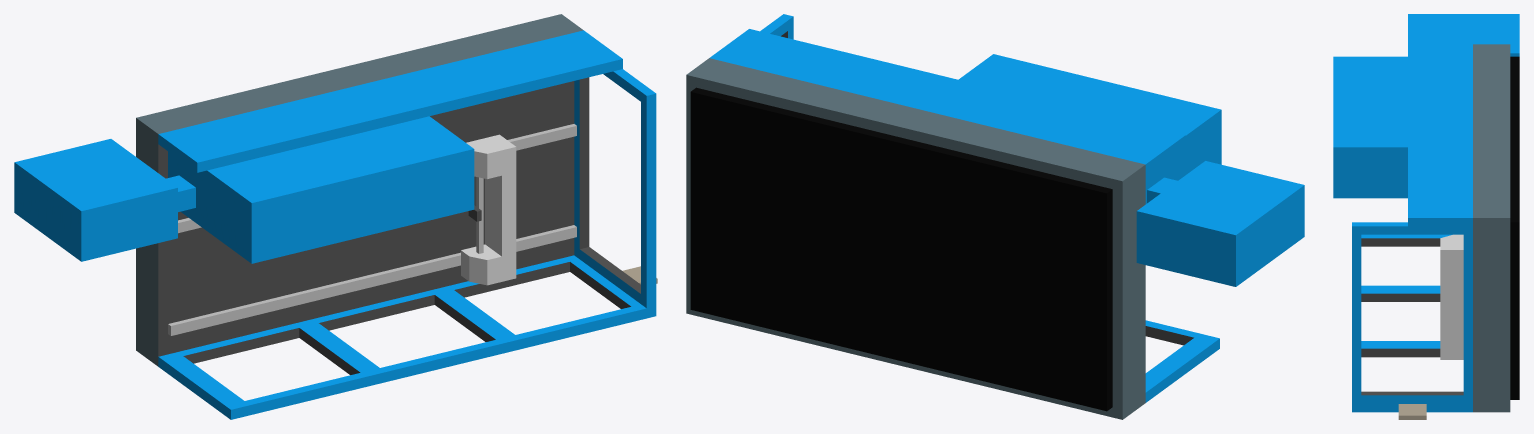
File: cnc_cutting_machine_5_state_1.dae
3 renders of one model, left to right at view 1: azimuth 30°, elevation 25°; view 2: azimuth 150°, elevation 25°; view 3: azimuth 270°, elevation 25°, orthographic. The views are drawn at different scales.
Parts seen in each view (by area): view 1: coords_ME_ID71_MA_material_6, coords_ME_ID131_MA_material, coords_ME_ID37_MA_material_6, coords_ME_ID109_MA_material_16, coords_ME_ID63_MA_material_8, coords_ME_ID85_MA_material_11, coords_ME_ID3_MA_material, coords_ME_ID91_MA_material, coords_ME_ID31_MA_material, coords_ME_ID25_MA_material, coords_ME_ID125_MA_material_11, coords_ME_ID97_MA_material_6; view 2: coords_ME_ID117_MA_material_9, coords_ME_ID71_MA_material_6, coords_ME_ID109_MA_material_16, coords_ME_ID37_MA_material_6; view 3: coords_ME_ID71_MA_material_6, coords_ME_ID109_MA_material_16, coords_ME_ID37_MA_material_6, coords_ME_ID117_MA_material_9, coords_ME_ID63_MA_material_8, coords_ME_ID25_MA_material, coords_ME_ID31_MA_material, coords_ME_ID91_MA_material, coords_ME_ID3_MA_material, coords_ME_ID77_MA_material_13.
Part boxes in pixels (x1=…): coords_ME_ID71_MA_material_6: x1=158, y1=30, x2=656, y2=419; coords_ME_ID131_MA_material: x1=158, y1=81, x2=574, y2=356; coords_ME_ID37_MA_material_6: x1=14, y1=139, x2=177, y2=261; coords_ME_ID109_MA_material_16: x1=136, y1=14, x2=583, y2=366; coords_ME_ID63_MA_material_8: x1=461, y1=134, x2=516, y2=285; coords_ME_ID85_MA_material_11: x1=168, y1=225, x2=576, y2=335; coords_ME_ID3_MA_material: x1=579, y1=77, x2=640, y2=293; coords_ME_ID91_MA_material: x1=319, y1=295, x2=495, y2=341; coords_ME_ID31_MA_material: x1=183, y1=328, x2=360, y2=375; coords_ME_ID25_MA_material: x1=454, y1=262, x2=630, y2=308; coords_ME_ID125_MA_material_11: x1=178, y1=124, x2=576, y2=233; coords_ME_ID97_MA_material_6: x1=166, y1=175, x2=195, y2=211; coords_ME_ID117_MA_material_9: x1=690, y1=87, x2=1112, y2=411; coords_ME_ID71_MA_material_6: x1=710, y1=14, x2=1221, y2=402; coords_ME_ID109_MA_material_16: x1=686, y1=58, x2=1145, y2=419; coords_ME_ID37_MA_material_6: x1=1136, y1=161, x2=1304, y2=286; coords_ME_ID71_MA_material_6: x1=1333, y1=44, x2=1472, y2=412; coords_ME_ID109_MA_material_16: x1=1473, y1=44, x2=1510, y2=412; coords_ME_ID37_MA_material_6: x1=1408, y1=14, x2=1519, y2=56; coords_ME_ID117_MA_material_9: x1=1510, y1=56, x2=1519, y2=399; coords_ME_ID63_MA_material_8: x1=1440, y1=234, x2=1463, y2=359; coords_ME_ID25_MA_material: x1=1361, y1=348, x2=1440, y2=357; coords_ME_ID31_MA_material: x1=1361, y1=238, x2=1440, y2=246; coords_ME_ID91_MA_material: x1=1361, y1=293, x2=1440, y2=301; coords_ME_ID3_MA_material: x1=1361, y1=391, x2=1463, y2=395; coords_ME_ID77_MA_material_13: x1=1398, y1=404, x2=1426, y2=419.
Size of the model in its own units: 83.62 by 32.6 by 28.35.
